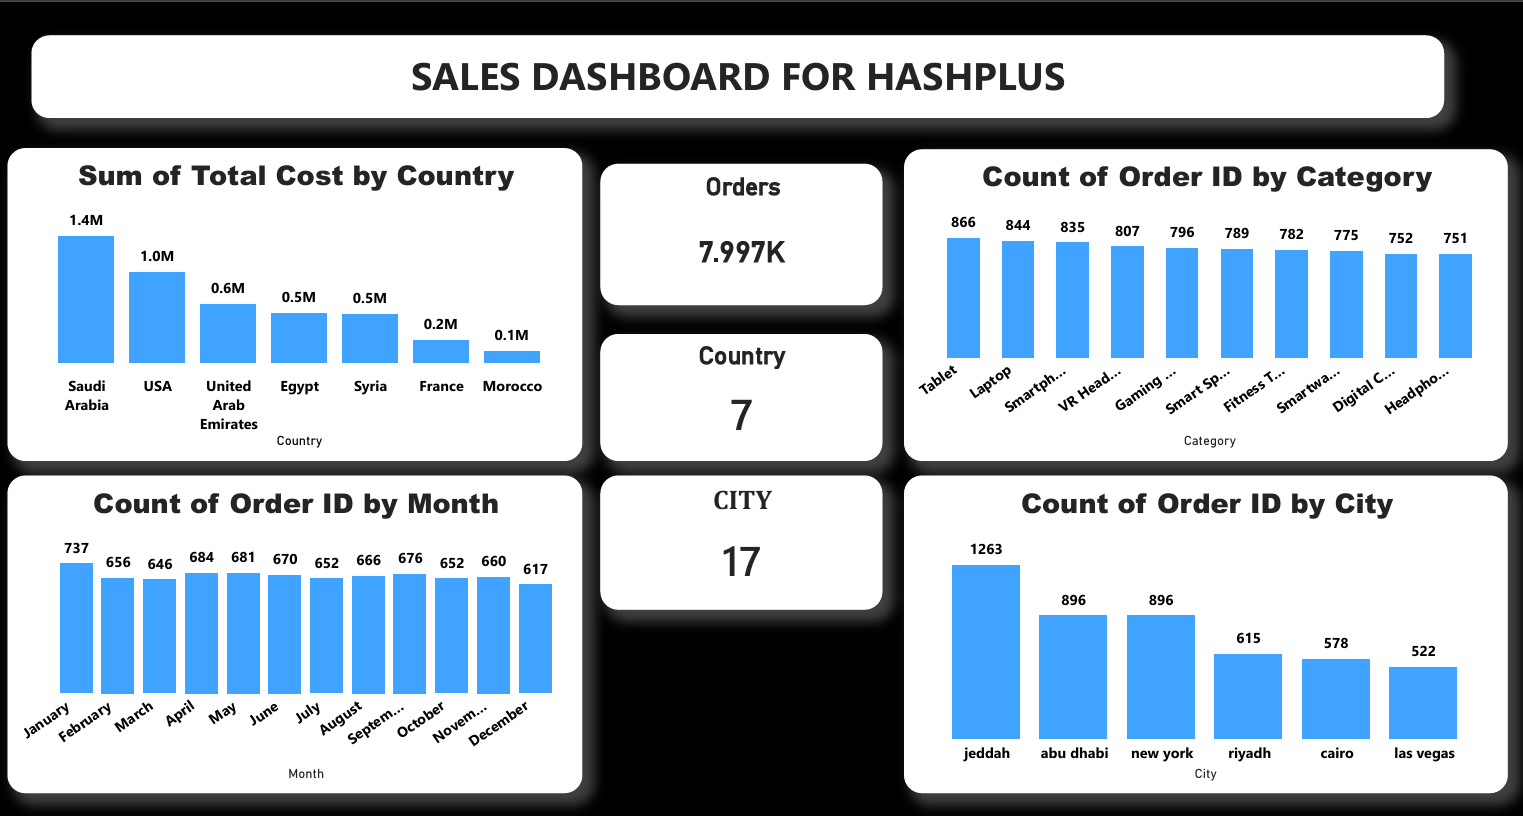

The dashboard page shown, as its layout file describes it:
{"tool":"powerbi","page":{"name":"Page 1","canvas":[1280,720],"ordinal":0},"visuals":[{"type":"shape","box":[0,0,1280,720],"z":0},{"type":"columnChart","fields":{"Category":["Orders (1).Country"],"Y":["Sum(Orders (1).Total Cost)"]},"box":[8.3,161.7,478.3,261.7],"z":4001},{"type":"columnChart","fields":{"Category":["Orders (1).Category"],"Y":["CountNonNull(Orders (1).Order ID)"]},"box":[755,163.3,503.3,260],"z":4002},{"type":"columnChart","fields":{"Category":["Orders (1).City"],"Y":["CountNonNull(Orders (1).Order ID)"]},"box":[755,435,503.3,265],"z":4003},{"type":"columnChart","fields":{"Category":["Orders (1).Order Date.Variation.Date Hierarchy.Month"],"Y":["CountNonNull(Orders (1).Order ID)"]},"box":[8.3,435,478.3,265],"z":4004},{"type":"cardVisual","title":"Orders","fields":{"Data":["CountNonNull(Orders (1).Order ID)"]},"box":[501.7,175,235,118.3],"z":4005},{"type":"cardVisual","title":"Country","fields":{"Data":["Count(Orders (1).Country)"]},"box":[501.7,316.7,235,106.7],"z":4006},{"type":"cardVisual","title":"CITY","fields":{"Data":["Count(Orders (1).City)"]},"box":[501.7,435,235,111.7],"z":4007},{"type":"textbox","box":[28.3,68.3,1176.7,68.3],"z":4008}]}

Visuals, with their boxes in screenshot pixels (x1, y1, x2, y2):
shape: 0/0/1522/814
columnChart - Orders (1).Country x Sum(Orders (1).Total Cost): 2/143/577/458
columnChart - Orders (1).Category x CountNonNull(Orders (1).Order ID): 900/145/1506/458
columnChart - Orders (1).City x CountNonNull(Orders (1).Order ID): 900/472/1506/790
columnChart - Orders (1).Order Date.Variation.Date Hierarchy.Month x CountNonNull(Orders (1).Order ID): 2/472/577/790
"Orders" cardVisual: 596/159/878/301
"Country" cardVisual: 596/329/878/458
"CITY" cardVisual: 596/472/878/606
textbox: 26/31/1441/113
